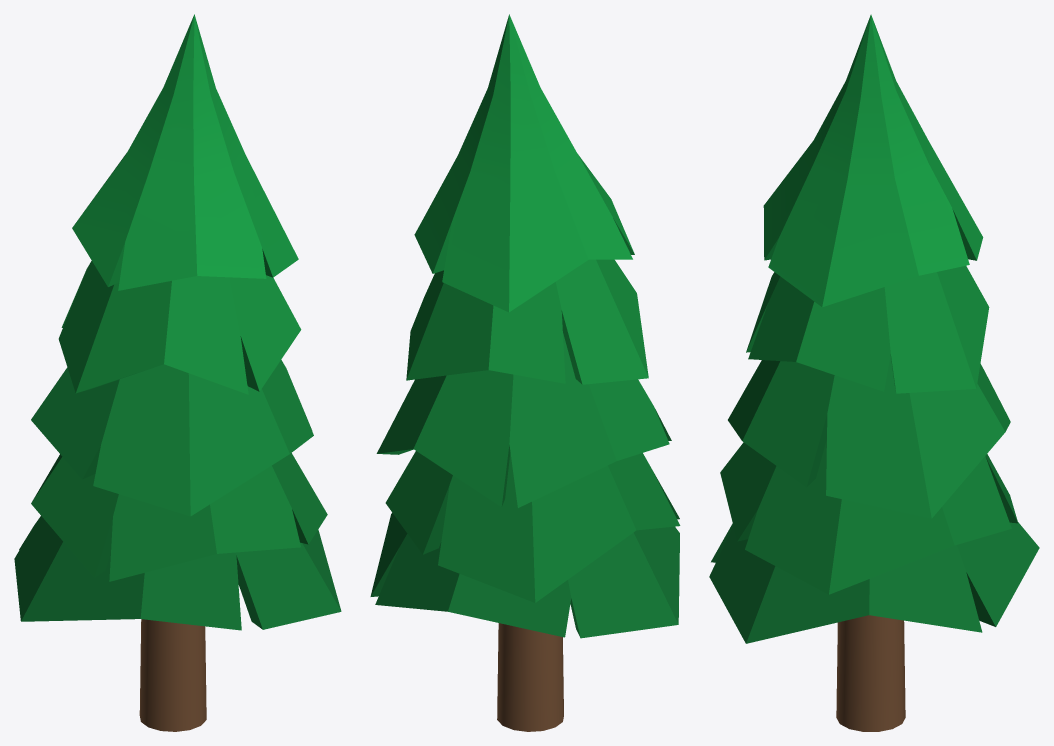
Rendered from Spruce_DarkGreen_Thin_1.fbx.
3 views of the same model, side by side, from view 1: azimuth 30°, elevation 25°; view 2: azimuth 150°, elevation 25°; view 3: azimuth 270°, elevation 25° (orthographic). The views are drawn at different scales.
Parts seen in each view (by area): view 1: Cylinder.077, Cylinder.078, Cylinder.079, Cylinder.081, Cylinder.080, Cylinder.082; view 2: Cylinder.077, Cylinder.078, Cylinder.080, Cylinder.079, Cylinder.081, Cylinder.082; view 3: Cylinder.077, Cylinder.078, Cylinder.080, Cylinder.079, Cylinder.081, Cylinder.082.
Boxes of the visible parts, <box> form: Cylinder.077: <box>72,14,298,290</box>; Cylinder.078: <box>31,360,313,516</box>; Cylinder.079: <box>58,261,301,394</box>; Cylinder.081: <box>14,516,341,630</box>; Cylinder.080: <box>31,453,327,581</box>; Cylinder.082: <box>139,619,206,731</box>; Cylinder.077: <box>414,14,634,312</box>; Cylinder.078: <box>376,333,671,507</box>; Cylinder.080: <box>385,451,680,602</box>; Cylinder.079: <box>406,259,648,384</box>; Cylinder.081: <box>370,512,679,638</box>; Cylinder.082: <box>497,623,563,731</box>; Cylinder.077: <box>763,14,983,307</box>; Cylinder.078: <box>728,356,1010,518</box>; Cylinder.080: <box>720,439,1017,594</box>; Cylinder.079: <box>746,266,989,393</box>; Cylinder.081: <box>709,522,1039,643</box>; Cylinder.082: <box>836,615,905,731</box>.
Bounding box in the file's own units: 247 × 567 × 238.
